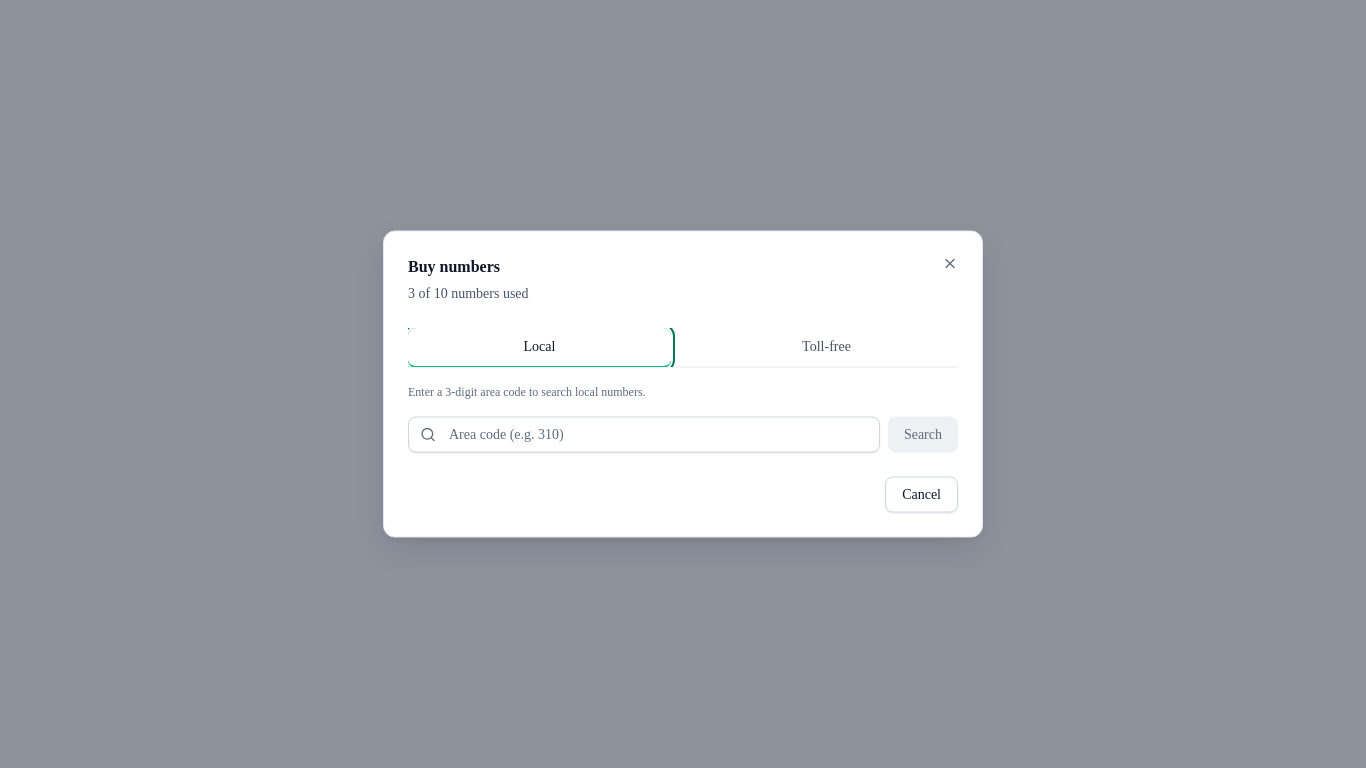
Scenario: Buy numbers › buys from the carrier the number came from
expect the text "3 of 10 numbers used" is shown: met, box [408,285,528,300]
Type "615" into the field labelled "Area code" at (644, 434), box [408,416,880,452]
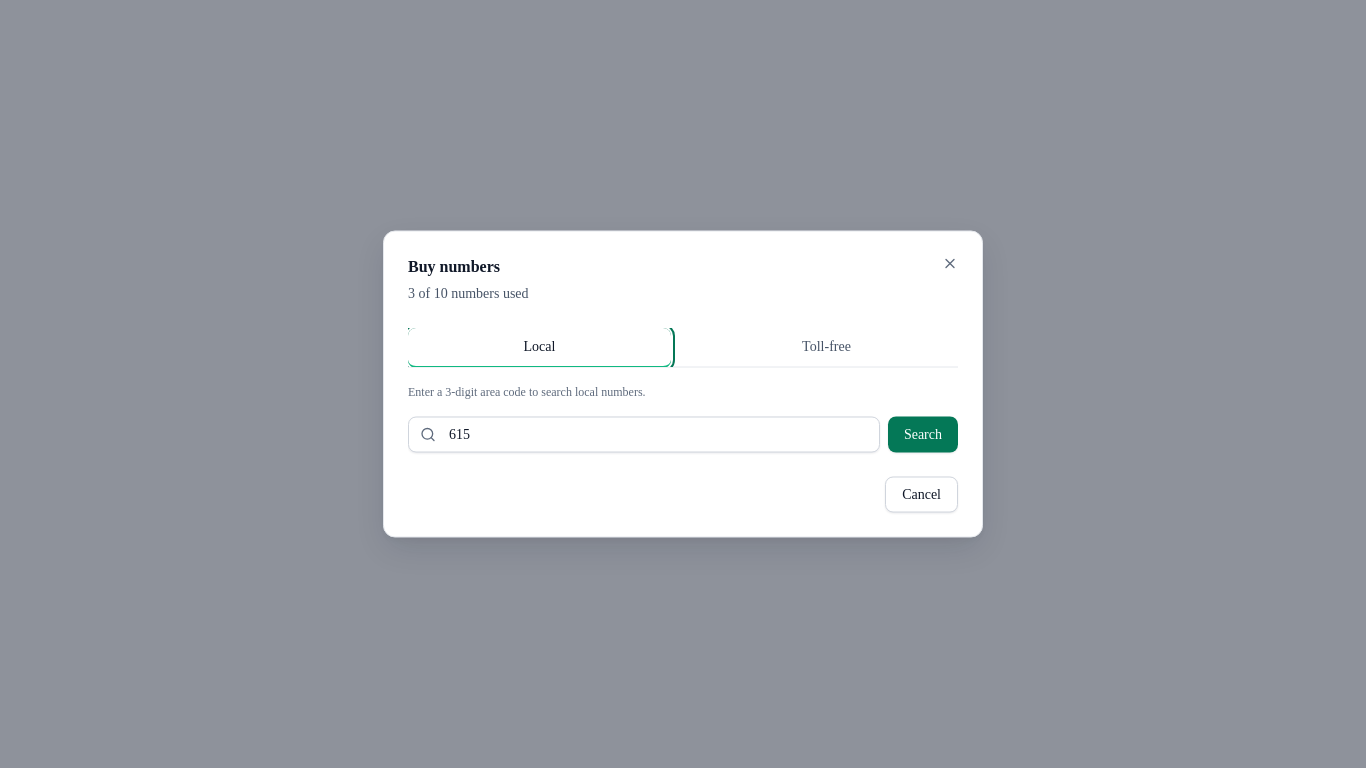
Click the button "Search" at (923, 434), box [888,416,958,452]
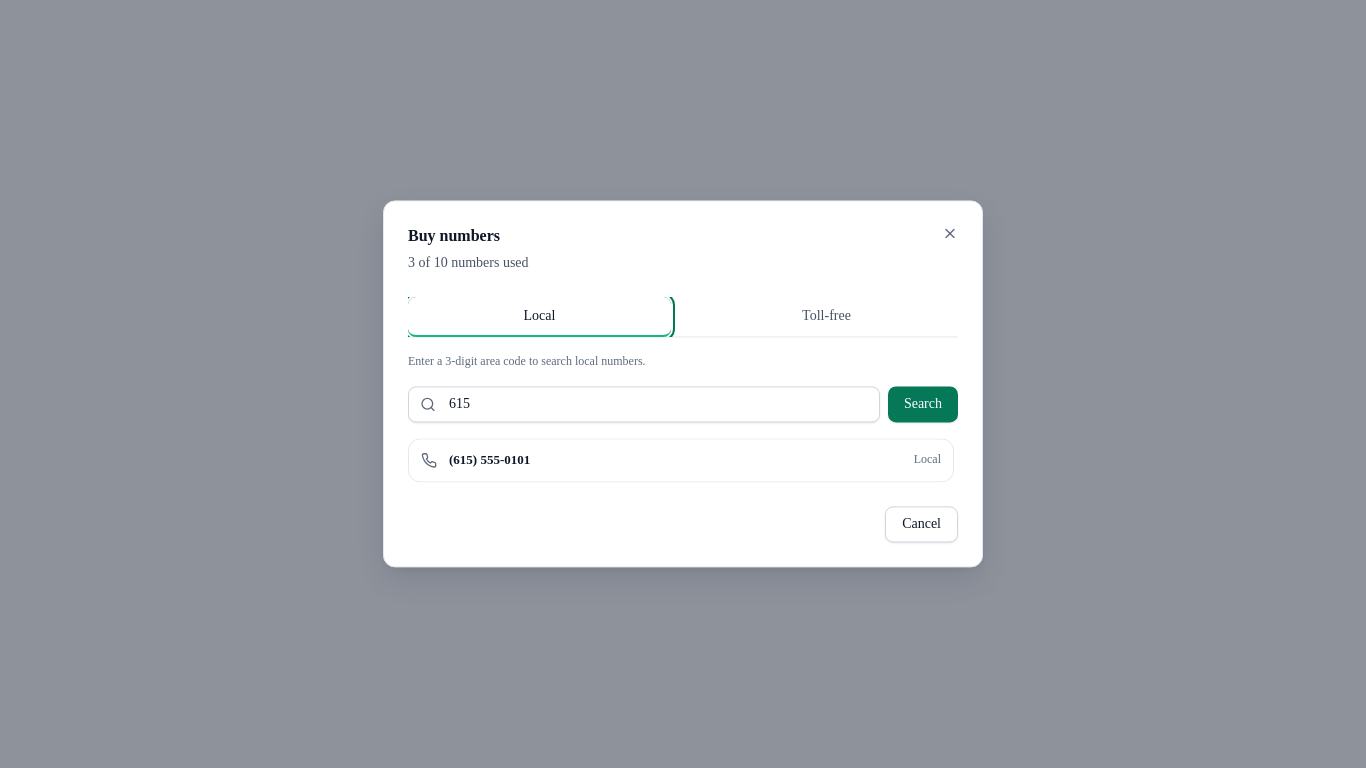
expect the text "(615) 555-0101" is shown: met
Click the text "(615) 555-0101" at (490, 460), box [449,451,530,470]
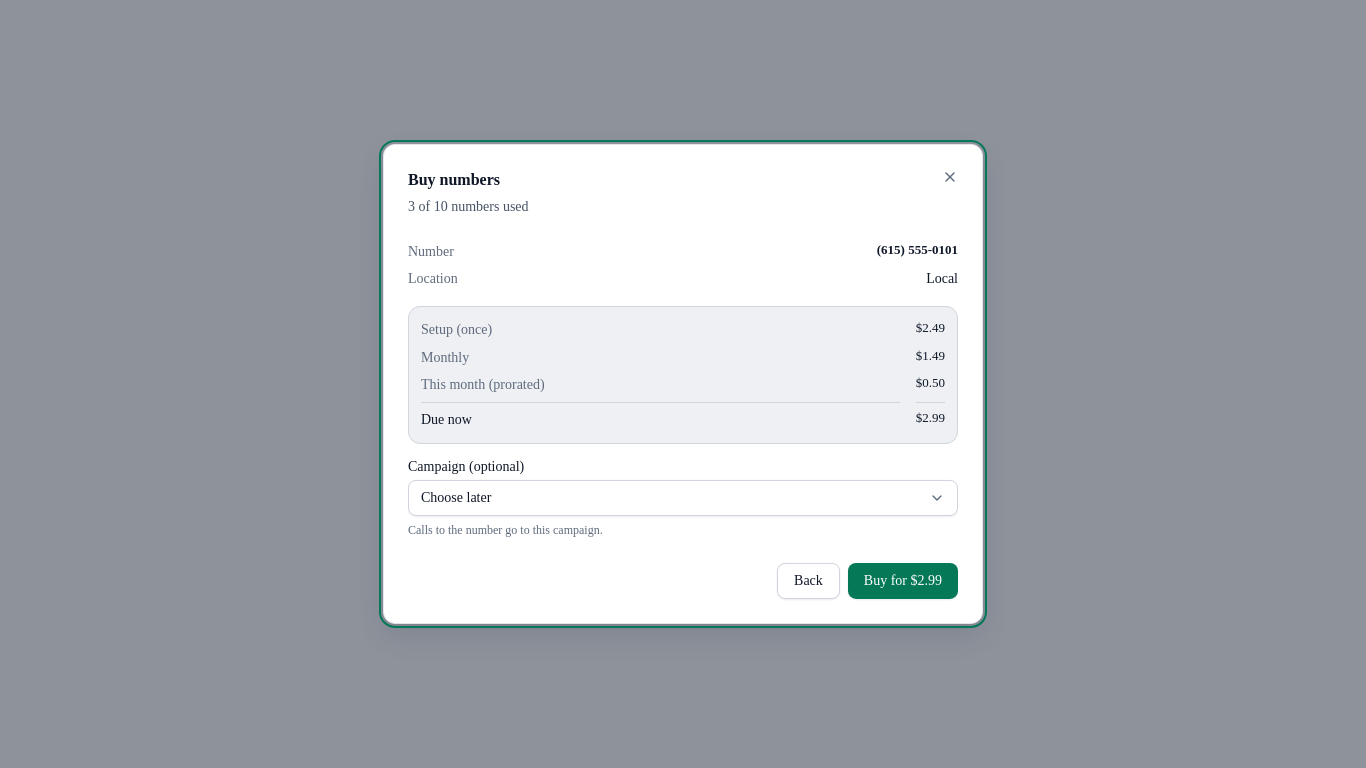
Click the button "Buy for $2.99" at (903, 581), box [848,563,958,599]
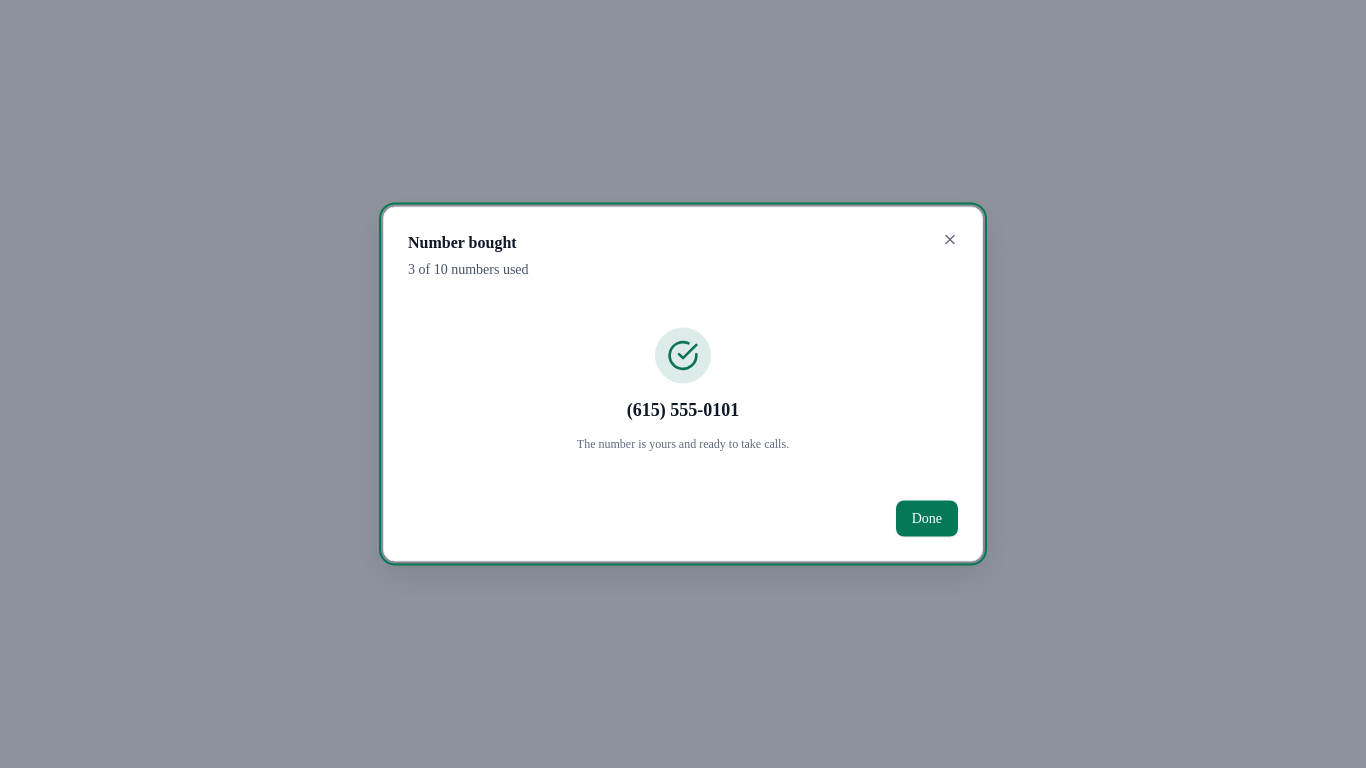
expect the heading "Number bought" is shown: met, box [408,234,517,250]
